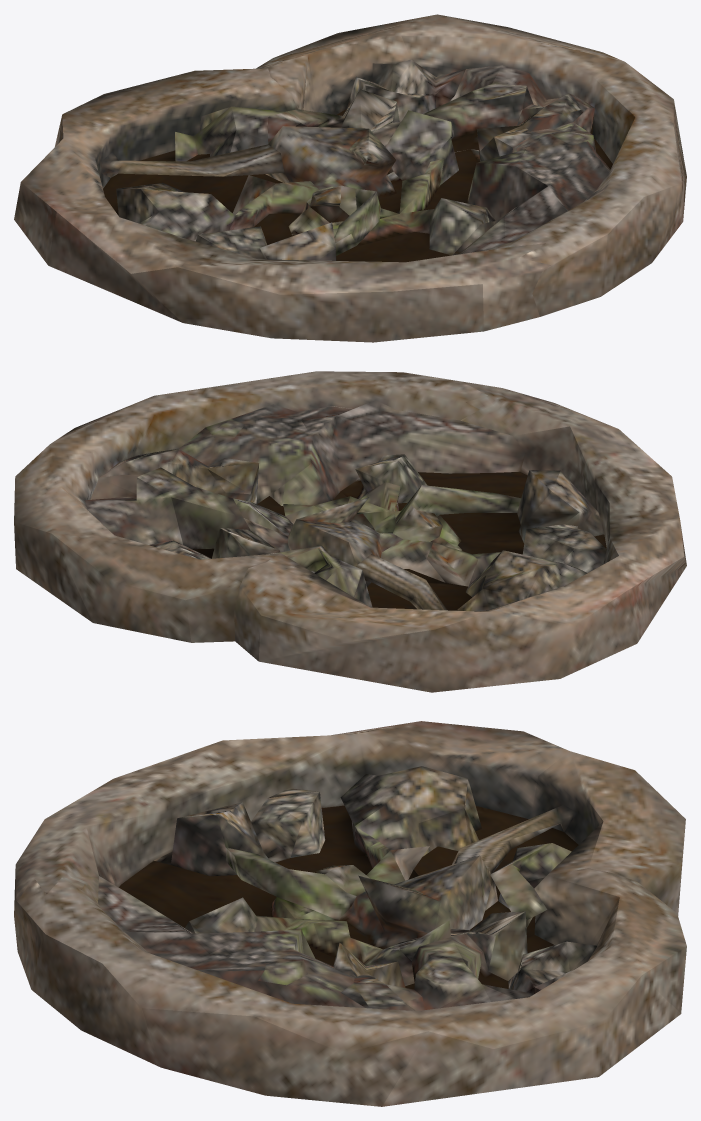
Rendered from Q_Ornament.fbx.
3 renders of one model, top to bottom at view 1: azimuth 30°, elevation 25°; view 2: azimuth 150°, elevation 25°; view 3: azimuth 270°, elevation 25°, orthographic. The views are drawn at different scales.
Visible parts, largest first — view 1: Aset_wood_decorative_S_ugrjfaifa_LOD5; view 2: Aset_wood_decorative_S_ugrjfaifa_LOD5; view 3: Aset_wood_decorative_S_ugrjfaifa_LOD5.
Part boxes in pixels (x1,y1,x2,y2): Aset_wood_decorative_S_ugrjfaifa_LOD5: (14, 14, 686, 342); Aset_wood_decorative_S_ugrjfaifa_LOD5: (14, 371, 686, 692); Aset_wood_decorative_S_ugrjfaifa_LOD5: (14, 721, 686, 1106).
Bounding box in the file's own units: 17.98 × 1.85 × 15.41.
